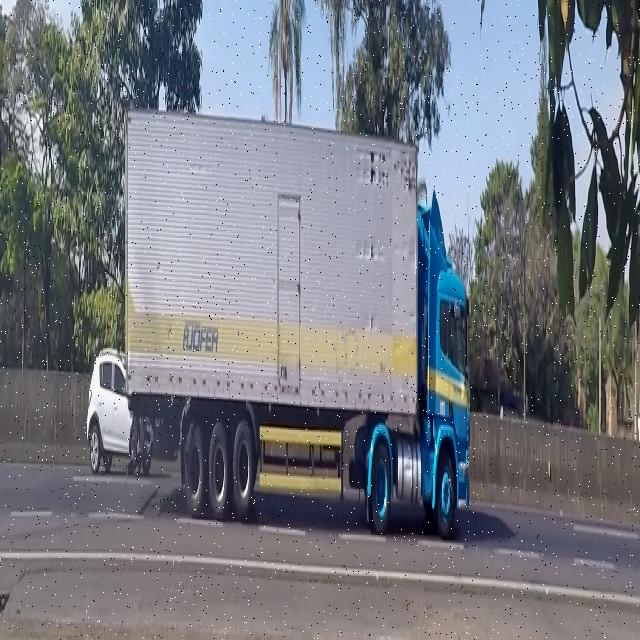-axle: (369, 424, 393, 540), (233, 408, 254, 523), (208, 417, 230, 523), (184, 415, 204, 518), (434, 445, 456, 537)
